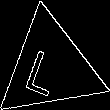L_N: (28, 38, 72, 96)
